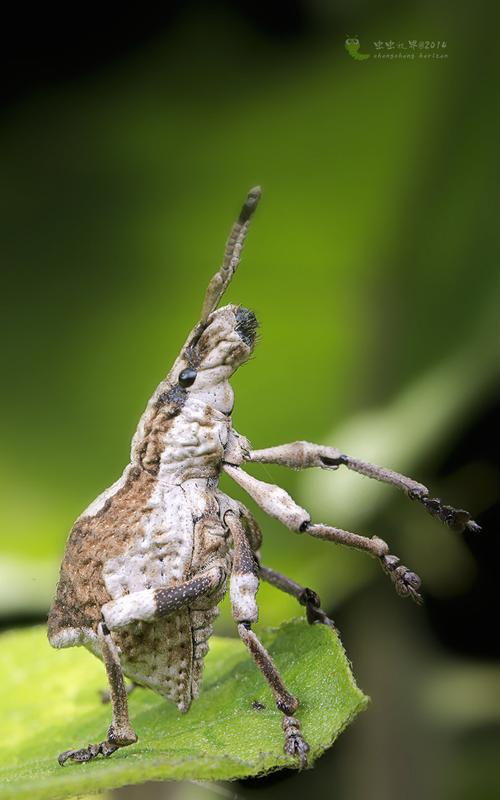Curculionidae: (45, 184, 482, 771)
